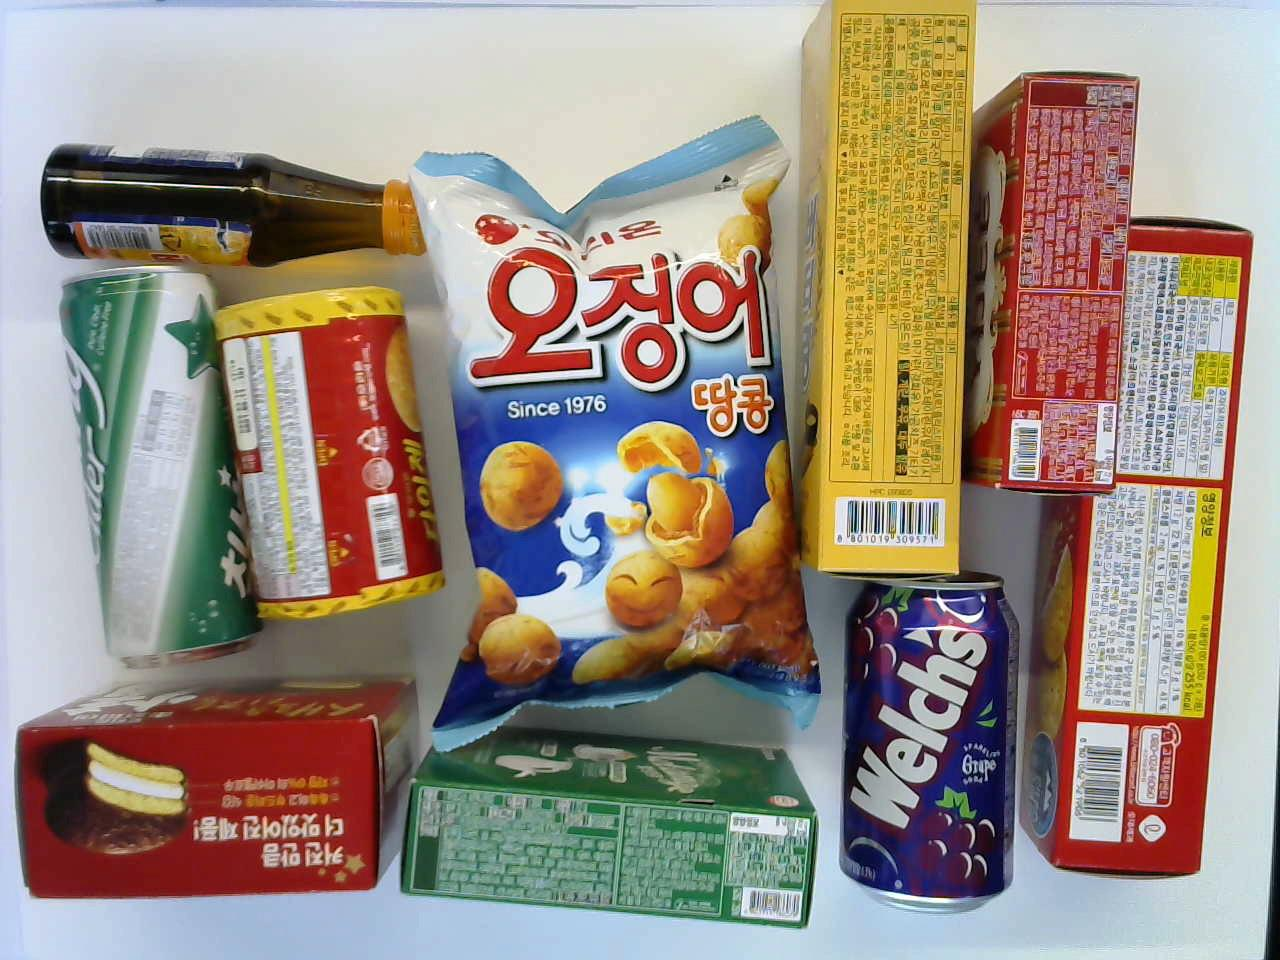buttering: (800, 0, 963, 576)
chocopie: (21, 680, 420, 907)
cidar: (48, 273, 261, 662)
couque_coffee: (405, 730, 809, 929)
couque_white: (956, 72, 1141, 494)
diget_ori: (198, 281, 451, 618)
squid_peanut: (430, 116, 793, 753)
vita500: (32, 143, 434, 265)
welchs: (836, 571, 1019, 908)
zec: (1018, 221, 1257, 875)
